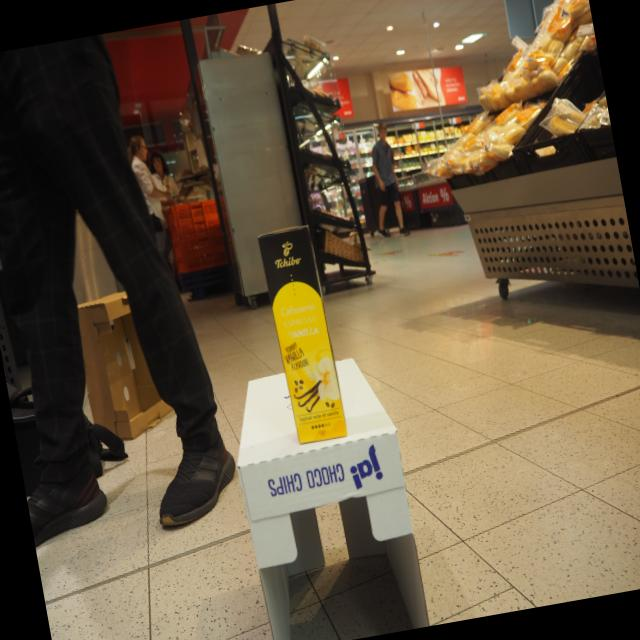Simo Es Vanilla: (255, 222, 349, 446)
